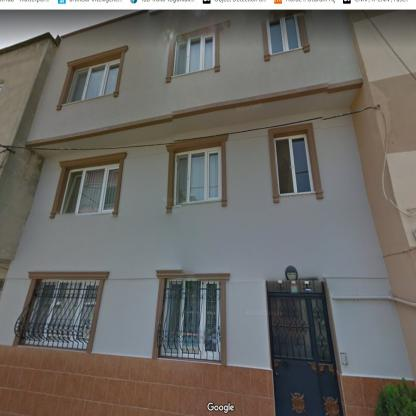door: (267, 281, 342, 415)
window: (24, 280, 99, 349), (161, 278, 220, 362), (60, 164, 119, 213), (174, 146, 221, 206), (274, 134, 315, 196), (67, 58, 120, 102), (174, 32, 214, 76), (266, 16, 302, 55)
